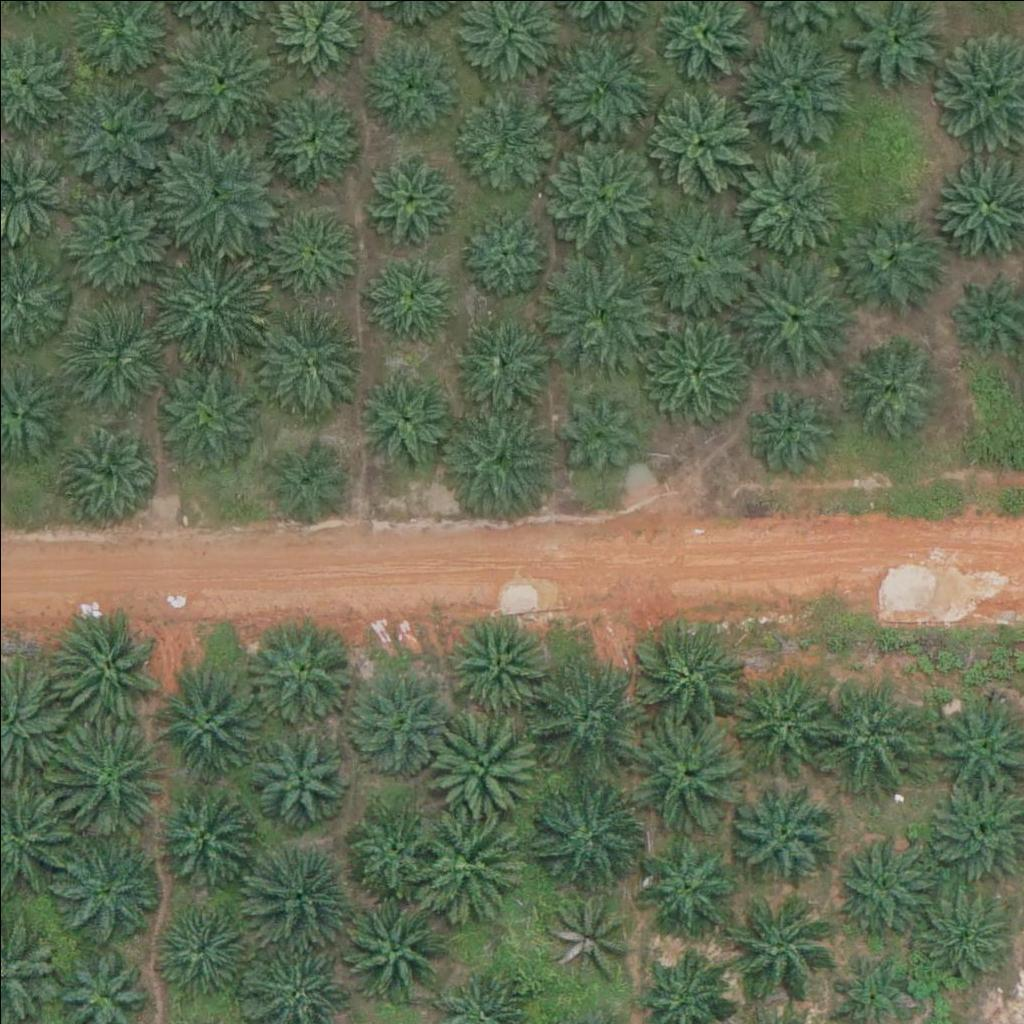Kelapa_Sawit: (542, 135, 655, 249), (57, 716, 170, 830), (241, 615, 354, 729), (154, 663, 267, 777), (542, 251, 655, 364), (644, 81, 757, 194), (644, 310, 757, 423), (730, 140, 843, 253), (160, 130, 273, 243), (165, 23, 278, 136), (259, 303, 372, 416), (242, 837, 355, 950), (630, 616, 743, 729), (543, 31, 655, 145), (646, 203, 758, 317), (155, 357, 267, 471), (443, 408, 555, 522), (51, 832, 163, 946), (719, 894, 831, 1008), (821, 677, 933, 791), (733, 261, 845, 374), (736, 25, 848, 138), (56, 79, 168, 192), (156, 243, 268, 356), (360, 25, 472, 138), (453, 78, 565, 191), (46, 606, 158, 719), (338, 893, 450, 1006), (415, 810, 527, 923), (428, 712, 540, 825), (526, 657, 638, 770), (530, 778, 642, 891), (632, 716, 744, 829), (731, 659, 843, 772), (739, 379, 839, 480), (844, 206, 944, 307), (63, 190, 163, 291), (258, 85, 358, 186), (357, 148, 457, 249), (453, 309, 553, 410), (249, 719, 349, 820), (348, 675, 448, 776), (736, 782, 836, 883), (836, 831, 936, 932), (840, 330, 940, 430), (70, 304, 170, 404), (59, 421, 159, 521), (361, 251, 461, 351), (354, 375, 454, 475), (148, 895, 248, 995), (152, 779, 252, 879), (449, 613, 549, 713), (638, 841, 738, 941), (913, 884, 1013, 984), (262, 437, 350, 525), (269, 209, 357, 297), (350, 804, 438, 892), (551, 389, 638, 477), (456, 204, 543, 292), (541, 891, 628, 979)
